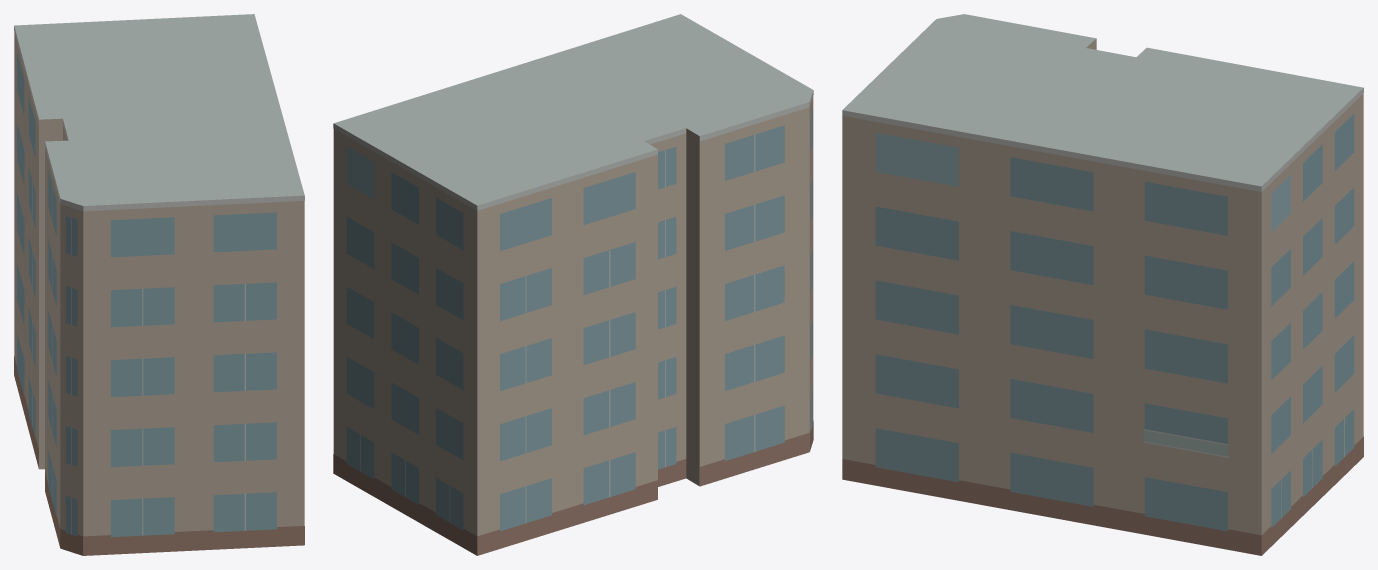
File: survey-upis-32531112.glb
3 views of the same model, side by side, from view 1: azimuth 30°, elevation 25°; view 2: azimuth 150°, elevation 25°; view 3: azimuth 270°, elevation 25° (orthographic). The views are drawn at different scales.
Parts seen in each view (by area): view 1: survey-upis-32531112.tmp; view 2: survey-upis-32531112.tmp; view 3: survey-upis-32531112.tmp.
Boxes of the visible parts, bbox=[...] form: survey-upis-32531112.tmp: bbox=[14, 14, 304, 555]; survey-upis-32531112.tmp: bbox=[333, 14, 813, 555]; survey-upis-32531112.tmp: bbox=[842, 14, 1363, 555].
Size of the model in its own units: 16.4 by 16.36 by 20.94.
